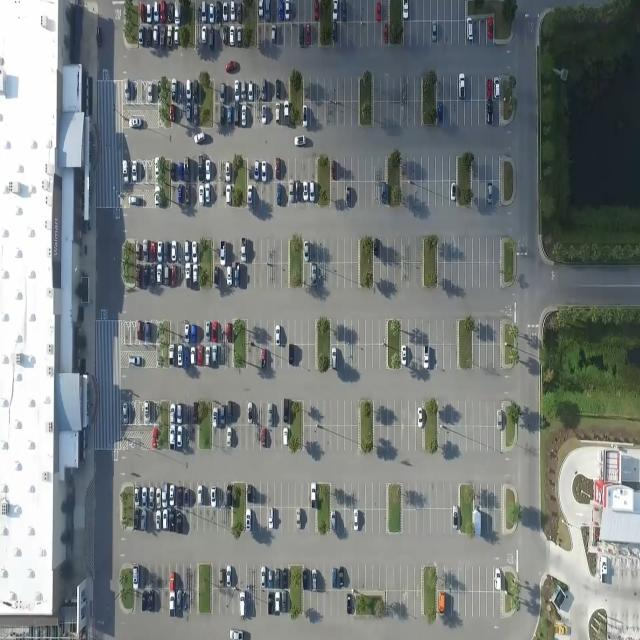car: (598, 555, 608, 583), (282, 100, 290, 124), (229, 627, 243, 640), (173, 0, 181, 22), (330, 346, 337, 371), (168, 592, 175, 617), (225, 60, 238, 73), (170, 239, 177, 263), (240, 238, 247, 262), (486, 100, 493, 124), (131, 564, 138, 588), (154, 157, 161, 180), (423, 345, 430, 368), (494, 568, 501, 591), (161, 481, 167, 507), (458, 72, 464, 98), (194, 132, 207, 144), (298, 23, 305, 45), (267, 508, 274, 530), (493, 78, 500, 100), (275, 183, 282, 205), (210, 320, 217, 342), (266, 401, 272, 426), (439, 592, 445, 617), (551, 626, 566, 636), (244, 507, 250, 532), (401, 0, 408, 21), (465, 20, 472, 41), (184, 183, 191, 204), (154, 186, 161, 207), (183, 240, 190, 261), (168, 402, 175, 423), (128, 115, 140, 127), (487, 78, 493, 102), (198, 156, 204, 180), (171, 263, 177, 287), (220, 240, 226, 264), (233, 262, 239, 286), (311, 264, 317, 288), (126, 354, 138, 366), (176, 511, 182, 535), (239, 591, 245, 615), (282, 398, 288, 422), (293, 135, 305, 147), (203, 346, 210, 366), (380, 182, 387, 202), (224, 566, 231, 586), (332, 0, 338, 23), (149, 263, 155, 286), (274, 590, 280, 613), (233, 78, 239, 101), (274, 157, 280, 180), (205, 158, 211, 181), (122, 158, 128, 181), (144, 400, 150, 423), (175, 424, 181, 447), (247, 79, 253, 101), (486, 183, 492, 205), (170, 77, 176, 99), (185, 78, 191, 100), (274, 103, 280, 125), (254, 159, 260, 181), (345, 185, 351, 207), (135, 264, 141, 286), (286, 343, 292, 365), (152, 427, 158, 449), (225, 426, 231, 448), (155, 487, 161, 509), (148, 485, 154, 507), (133, 508, 139, 530), (154, 509, 160, 531), (267, 592, 273, 614), (310, 569, 316, 591), (310, 482, 315, 508), (183, 155, 188, 181), (166, 24, 172, 45), (487, 20, 493, 41), (302, 180, 308, 201), (191, 241, 197, 262), (302, 106, 308, 127), (288, 180, 294, 201), (274, 324, 280, 345), (246, 402, 252, 423), (417, 408, 423, 429), (133, 485, 139, 506), (161, 508, 167, 529), (176, 589, 182, 610), (192, 104, 198, 125), (152, 24, 158, 44), (200, 0, 206, 20), (219, 404, 225, 424), (210, 344, 216, 364), (196, 484, 202, 504), (124, 78, 130, 98), (192, 80, 198, 100), (309, 182, 315, 202), (225, 162, 231, 182), (142, 266, 148, 286), (164, 266, 170, 286), (212, 265, 218, 285), (401, 345, 407, 365), (136, 320, 142, 340), (122, 403, 128, 423), (211, 406, 217, 426), (226, 400, 232, 420), (141, 486, 147, 506), (147, 510, 153, 530), (280, 590, 286, 610), (352, 510, 358, 530), (240, 79, 246, 99), (226, 484, 231, 507), (186, 102, 192, 121), (259, 429, 265, 448), (260, 105, 266, 124), (451, 182, 457, 201), (177, 183, 183, 202), (142, 239, 148, 258), (225, 323, 231, 342), (175, 486, 181, 505), (168, 572, 174, 591), (346, 594, 352, 613), (256, 0, 263, 16), (132, 160, 137, 182), (147, 80, 152, 102), (296, 180, 301, 202), (128, 196, 138, 207), (157, 240, 162, 262), (295, 507, 300, 529), (330, 510, 335, 532), (169, 484, 174, 506), (140, 508, 145, 530), (168, 508, 173, 530), (302, 568, 307, 590), (339, 566, 344, 588), (431, 24, 437, 42), (189, 346, 195, 364), (162, 241, 168, 259), (192, 264, 198, 282), (139, 0, 144, 21), (167, 0, 172, 21), (278, 0, 283, 21), (341, 0, 346, 21), (241, 105, 246, 126), (304, 241, 309, 262), (259, 347, 264, 368), (176, 344, 181, 365), (183, 346, 188, 367), (496, 410, 501, 431), (260, 566, 265, 587), (261, 78, 266, 99), (135, 242, 141, 259), (168, 102, 174, 119), (153, 0, 158, 20), (138, 24, 143, 44), (208, 25, 213, 45), (229, 25, 234, 45), (265, 0, 270, 20), (229, 0, 234, 20), (438, 102, 443, 122), (331, 161, 336, 181), (248, 184, 253, 204), (199, 185, 204, 205), (205, 183, 210, 203), (156, 263, 161, 283), (197, 344, 202, 364), (148, 590, 153, 610), (226, 184, 231, 204), (452, 506, 456, 530), (159, 26, 164, 45), (222, 0, 227, 19), (222, 26, 227, 45), (284, 0, 289, 19), (383, 25, 388, 44), (226, 103, 231, 122), (178, 162, 183, 181), (150, 241, 155, 260), (204, 321, 209, 340), (189, 323, 194, 342), (185, 263, 190, 282), (173, 25, 178, 43), (236, 26, 241, 44), (275, 79, 280, 97), (171, 162, 176, 180), (183, 488, 188, 506), (273, 569, 278, 587), (281, 569, 286, 587), (246, 484, 251, 502), (160, 0, 164, 22), (146, 320, 150, 342), (201, 25, 206, 42), (374, 238, 379, 255), (237, 1, 241, 22), (306, 22, 310, 43), (234, 102, 238, 123), (262, 161, 266, 182), (168, 342, 172, 363), (215, 0, 219, 20), (314, 0, 318, 20), (220, 82, 224, 102), (332, 568, 336, 588), (146, 2, 150, 21), (209, 2, 213, 21), (376, 3, 380, 22), (226, 266, 230, 284), (282, 427, 286, 445), (146, 25, 150, 42), (271, 24, 275, 41), (332, 22, 336, 39), (218, 569, 222, 586), (268, 571, 272, 588), (220, 105, 223, 124)
free_space: (190, 425, 199, 448), (372, 102, 380, 127), (414, 101, 422, 126), (485, 592, 493, 617), (188, 481, 196, 506), (478, 22, 486, 46), (316, 102, 324, 126), (336, 102, 344, 126), (400, 181, 408, 205), (492, 182, 500, 206), (302, 262, 310, 286), (436, 263, 444, 287), (478, 262, 486, 286), (406, 426, 414, 450), (399, 321, 407, 345), (414, 344, 422, 368), (188, 567, 196, 591), (450, 592, 458, 616), (486, 568, 494, 592), (465, 568, 473, 592), (464, 592, 472, 616), (478, 487, 486, 511), (478, 510, 486, 534), (492, 510, 500, 534), (260, 262, 268, 286), (304, 0, 312, 23), (330, 182, 338, 205), (414, 159, 422, 182), (434, 181, 442, 204), (478, 182, 486, 205), (414, 264, 422, 287), (414, 239, 422, 262), (190, 402, 198, 425), (350, 427, 358, 450), (406, 404, 414, 427), (442, 345, 450, 368), (478, 323, 486, 346), (272, 507, 280, 530), (356, 486, 364, 509), (210, 563, 218, 586), (414, 568, 422, 591), (478, 593, 486, 616), (133, 588, 141, 611), (422, 486, 430, 509), (256, 23, 264, 46), (393, 102, 400, 128), (408, 591, 415, 617), (189, 589, 196, 615), (346, 0, 354, 22), (416, 0, 424, 22), (444, 22, 452, 44), (442, 80, 450, 102), (470, 80, 478, 102), (491, 102, 499, 124), (288, 160, 296, 182), (344, 160, 352, 182), (434, 160, 442, 182), (210, 426, 218, 448), (414, 322, 422, 344), (428, 322, 436, 344), (442, 322, 450, 344), (286, 485, 294, 507), (230, 566, 238, 588), (372, 568, 380, 590), (169, 320, 177, 342), (415, 509, 423, 531), (280, 264, 288, 286), (436, 403, 443, 428), (450, 403, 457, 428), (478, 403, 485, 428), (486, 344, 493, 369), (329, 484, 336, 509), (153, 563, 160, 588), (324, 590, 331, 615), (171, 182, 178, 207), (168, 423, 175, 448), (146, 563, 153, 588), (239, 564, 246, 589), (429, 509, 436, 534), (415, 591, 422, 616), (281, 78, 288, 102), (470, 102, 477, 126), (477, 102, 484, 126), (428, 159, 435, 183), (428, 181, 435, 205), (442, 182, 449, 206), (240, 263, 247, 287), (253, 263, 260, 287), (273, 263, 280, 287), (344, 240, 351, 264), (451, 264, 458, 288), (465, 262, 472, 286), (472, 262, 479, 286), (322, 402, 329, 426), (322, 426, 329, 450), (329, 426, 336, 450), (350, 402, 357, 426), (343, 426, 350, 450), (436, 427, 443, 451), (443, 404, 450, 428), (450, 427, 457, 451), (457, 427, 464, 451), (471, 404, 478, 428), (471, 428, 478, 452), (478, 428, 485, 452), (300, 344, 307, 368), (329, 321, 336, 345), (357, 345, 364, 369), (371, 345, 378, 369), (472, 345, 479, 369), (493, 344, 500, 368), (252, 506, 259, 530), (286, 507, 293, 531), (343, 486, 350, 510), (349, 484, 356, 508), (160, 588, 167, 612), (303, 590, 310, 614), (317, 566, 324, 590), (393, 568, 400, 592), (436, 568, 443, 592), (451, 568, 458, 592), (444, 592, 451, 616), (247, 102, 254, 126), (338, 159, 345, 183), (202, 506, 209, 530), (401, 485, 408, 509), (408, 485, 415, 509), (485, 486, 492, 510), (451, 22, 458, 46), (458, 22, 465, 46), (378, 345, 385, 369), (401, 510, 408, 534), (408, 509, 415, 533), (246, 564, 253, 588), (310, 101, 316, 128), (194, 23, 201, 46), (291, 0, 298, 23), (291, 22, 298, 45), (367, 0, 374, 23), (374, 23, 381, 46), (424, 23, 431, 46), (303, 78, 310, 101), (449, 102, 456, 125), (212, 182, 219, 205), (254, 182, 261, 205), (281, 182, 288, 205), (421, 159, 428, 182), (246, 263, 253, 286), (323, 240, 330, 263), (337, 263, 344, 286), (344, 263, 351, 286), (351, 263, 358, 286), (380, 263, 387, 286), (444, 263, 451, 286), (451, 240, 458, 263), (465, 240, 472, 263), (238, 402, 245, 425), (238, 425, 245, 448), (245, 426, 252, 449), (315, 426, 322, 449), (336, 426, 343, 449), (372, 403, 379, 426), (372, 427, 379, 450), (379, 403, 386, 426), (379, 426, 386, 449), (386, 426, 393, 449), (393, 426, 400, 449), (400, 426, 407, 449), (414, 426, 421, 449), (443, 427, 450, 450), (464, 428, 471, 451), (485, 404, 492, 427), (266, 321, 273, 344), (266, 344, 273, 367), (280, 321, 287, 344), (307, 322, 314, 345), (336, 322, 343, 345), (357, 322, 364, 345), (364, 322, 371, 345), (209, 506, 216, 529), (216, 483, 223, 506), (279, 484, 286, 507), (336, 486, 343, 509), (378, 487, 385, 510), (364, 510, 371, 533), (210, 588, 217, 611), (310, 590, 317, 613), (317, 590, 324, 613), (379, 568, 386, 591), (400, 568, 407, 591), (394, 591, 401, 614), (401, 591, 408, 614), (493, 593, 500, 616), (472, 568, 479, 591), (213, 102, 220, 125), (387, 569, 394, 592), (422, 509, 429, 532), (436, 510, 443, 533), (183, 321, 190, 344), (342, 510, 350, 530), (194, 0, 201, 22), (298, 0, 305, 22), (311, 22, 318, 44), (360, 23, 367, 45), (381, 0, 388, 22), (430, 0, 437, 22), (444, 0, 451, 22), (437, 0, 444, 22), (323, 79, 330, 101), (393, 80, 400, 102), (379, 102, 386, 124), (386, 102, 393, 124), (436, 80, 443, 102), (470, 102, 477, 124), (302, 159, 309, 181), (309, 159, 316, 181), (351, 160, 358, 182), (358, 160, 365, 182), (358, 182, 365, 204), (400, 160, 407, 182), (414, 181, 421, 203), (442, 159, 449, 181), (449, 160, 456, 182), (492, 160, 499, 182), (485, 160, 492, 182), (471, 160, 478, 182), (253, 240, 260, 262), (323, 263, 330, 285), (351, 242, 358, 264), (380, 242, 387, 264), (387, 241, 394, 263), (444, 240, 451, 262), (472, 240, 479, 262), (479, 241, 486, 263), (259, 402, 266, 424), (329, 404, 336, 426), (343, 404, 350, 426), (386, 404, 393, 426), (457, 405, 464, 427), (464, 406, 471, 428), (485, 428, 492, 450), (492, 428, 499, 450), (246, 344, 253, 366), (364, 345, 371, 367), (378, 322, 385, 344), (188, 506, 195, 528), (209, 483, 216, 505), (272, 485, 279, 507), (357, 510, 364, 532), (371, 509, 378, 531), (153, 588, 160, 610), (181, 568, 188, 590), (344, 568, 351, 590), (359, 568, 366, 590), (212, 160, 219, 182), (141, 589, 148, 611), (471, 488, 478, 510), (492, 488, 499, 510), (212, 240, 219, 262), (354, 22, 360, 47), (352, 181, 358, 206), (302, 425, 308, 450), (231, 588, 237, 613), (472, 592, 478, 617), (366, 181, 372, 206), (156, 343, 162, 368), (277, 23, 284, 44), (423, 0, 430, 21), (437, 23, 444, 44), (450, 0, 457, 21), (477, 80, 484, 101), (478, 161, 485, 182), (493, 242, 500, 263), (176, 321, 183, 342), (300, 486, 307, 507), (378, 510, 385, 531), (336, 509, 343, 530), (284, 22, 290, 46), (271, 0, 277, 24), (347, 22, 353, 46), (417, 22, 423, 46), (472, 22, 478, 46), (324, 102, 330, 126), (351, 102, 357, 126), (407, 102, 413, 126), (464, 102, 470, 126), (282, 159, 288, 183), (338, 182, 344, 206), (266, 262, 272, 286), (317, 240, 323, 264), (373, 263, 379, 287), (493, 262, 499, 286), (218, 424, 224, 448), (232, 424, 238, 448), (266, 426, 272, 450), (302, 402, 308, 426), (309, 402, 315, 426), (309, 426, 315, 450), (225, 343, 231, 367), (253, 343, 259, 367), (337, 344, 343, 368), (344, 321, 350, 345), (351, 321, 357, 345), (371, 321, 377, 345), (408, 344, 414, 368), (436, 322, 442, 346), (450, 345, 456, 369), (436, 344, 442, 368), (486, 322, 492, 346), (216, 506, 222, 530), (140, 564, 146, 588), (259, 589, 265, 613), (366, 567, 372, 591), (408, 568, 414, 592), (459, 568, 465, 592), (261, 239, 267, 263), (130, 320, 136, 344), (254, 79, 261, 99), (330, 80, 337, 100), (295, 160, 302, 180), (394, 242, 401, 262), (223, 506, 230, 526), (340, 22, 346, 45), (360, 0, 366, 23), (403, 22, 409, 45), (310, 78, 316, 101), (344, 102, 350, 125), (457, 103, 463, 126), (219, 183, 225, 206), (261, 182, 267, 205), (268, 182, 274, 205), (422, 181, 428, 204), (226, 239, 232, 262), (246, 239, 252, 262), (267, 239, 273, 262), (310, 240, 316, 263), (331, 240, 337, 263), (387, 263, 393, 286), (458, 263, 464, 286), (232, 402, 238, 425), (316, 402, 322, 425), (253, 321, 259, 344), (260, 321, 266, 344), (294, 321, 300, 344), (294, 344, 300, 367), (301, 321, 307, 344), (308, 344, 314, 367), (351, 345, 357, 368), (429, 345, 435, 368), (472, 322, 478, 345), (480, 345, 486, 368), (252, 483, 258, 506), (294, 485, 300, 508), (259, 507, 265, 530), (300, 507, 306, 530), (371, 487, 377, 510), (161, 565, 167, 588), (332, 591, 338, 614), (352, 567, 358, 590), (388, 591, 394, 614), (445, 568, 451, 591), (458, 592, 464, 615), (480, 568, 486, 591), (176, 401, 182, 424), (437, 487, 443, 510), (443, 102, 449, 125), (215, 24, 221, 46), (360, 0, 366, 22), (410, 22, 416, 44), (458, 0, 464, 22), (178, 102, 184, 124), (268, 80, 274, 102), (268, 102, 274, 124), (317, 80, 323, 102), (344, 80, 350, 102), (351, 80, 357, 102), (380, 80, 386, 102), (387, 80, 393, 102), (373, 80, 379, 102), (414, 79, 420, 101), (450, 80, 456, 102), (464, 80, 470, 102), (248, 160, 254, 182), (267, 160, 273, 182), (366, 159, 372, 181), (408, 160, 414, 182), (408, 182, 414, 204), (472, 183, 478, 205), (233, 239, 239, 261), (274, 241, 280, 263), (280, 241, 286, 263), (317, 263, 323, 285), (331, 264, 337, 286), (338, 240, 344, 262), (394, 264, 400, 286), (437, 241, 443, 263), (486, 263, 492, 285), (486, 241, 492, 263), (129, 402, 135, 424), (273, 403, 279, 425), (273, 426, 279, 448), (336, 404, 342, 426), (393, 404, 399, 426), (400, 404, 406, 426), (197, 320, 203, 342), (246, 321, 252, 343), (273, 344, 279, 366), (280, 344, 286, 366), (287, 321, 293, 343), (344, 346, 350, 368), (408, 322, 414, 344), (422, 322, 428, 344), (182, 507, 188, 529), (196, 506, 202, 528), (259, 483, 265, 505), (266, 484, 272, 506), (280, 507, 286, 529), (307, 508, 313, 530), (364, 487, 370, 509), (175, 567, 181, 589), (218, 588, 224, 610), (224, 588, 230, 610), (252, 589, 258, 611), (325, 568, 331, 590), (338, 591, 344, 613), (214, 80, 220, 102), (226, 80, 232, 102), (191, 182, 197, 204), (416, 486, 422, 508), (430, 486, 436, 508), (444, 510, 450, 532), (486, 510, 492, 532), (264, 23, 270, 44), (353, 0, 359, 21), (368, 22, 374, 43), (409, 0, 415, 21), (179, 80, 185, 101), (407, 81, 413, 102), (191, 160, 197, 181), (219, 263, 225, 284), (458, 241, 464, 262), (450, 322, 456, 343), (493, 323, 499, 344), (202, 485, 208, 506), (443, 487, 449, 508), (331, 102, 336, 126), (337, 81, 343, 101), (145, 160, 151, 180), (139, 402, 144, 426), (125, 320, 130, 344), (254, 566, 259, 589), (141, 80, 146, 102), (131, 78, 136, 99), (153, 401, 158, 422), (451, 487, 456, 508), (140, 161, 145, 180)
